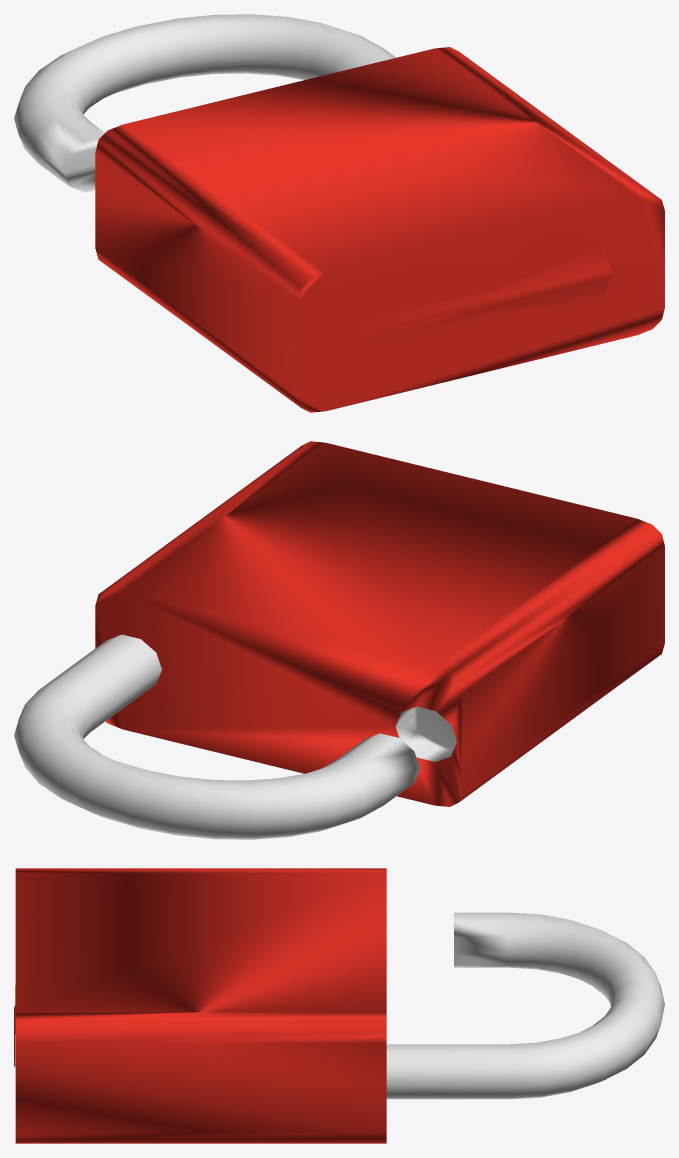
File: Candado.fbx
3 renders of one model, top to bottom at view 1: azimuth 30°, elevation 25°; view 2: azimuth 150°, elevation 25°; view 3: azimuth 270°, elevation 25°, orthographic. The views are drawn at different scales.
Parts seen in each view (by area): view 1: Candado.002; view 2: Candado.002; view 3: Candado.002.
Part boxes in pixels (x1,y1,x2,y2): Candado.002: (14,14,664,412); Candado.002: (14,441,664,839); Candado.002: (14,868,664,1143).
Size of the model in its own units: 12.83 by 4.63 by 21.56.
